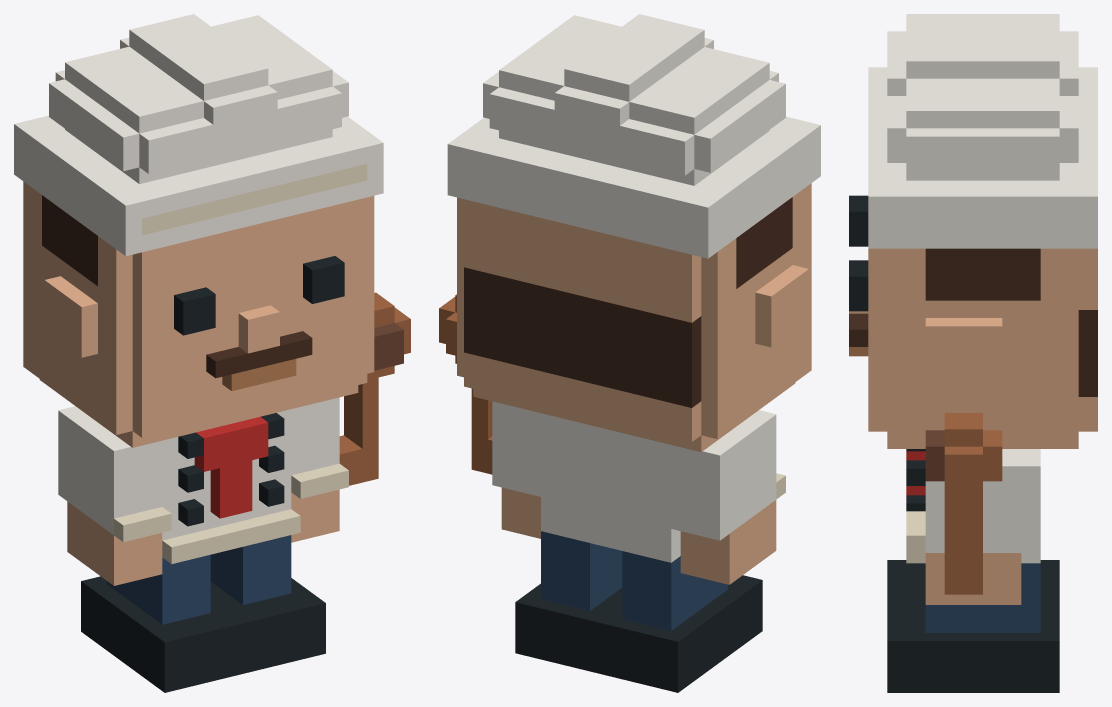
Rendered from chef.glb.
3 renders of one model, left to right at view 1: azimuth 30°, elevation 25°; view 2: azimuth 150°, elevation 25°; view 3: azimuth 270°, elevation 25°, orthographic. The views are drawn at different scales.
Visible parts, largest first — view 1: head, torso, leg_left, arm_left, arm_right, leg_right; view 2: head, leg_left, torso, arm_left, leg_right, arm_right; view 3: head, arm_right, leg_right, leg_left, torso.
Part boxes in pixels (box(x1,y1,x2,y2)): head: box(14, 14, 383, 447); torso: box(162, 409, 300, 563); leg_left: box(81, 554, 245, 692); arm_left: box(58, 406, 171, 585); arm_right: box(291, 292, 410, 542); leg_right: box(210, 535, 325, 673); head: box(447, 14, 820, 452); leg_left: box(596, 551, 762, 692); torso: box(541, 413, 680, 562); arm_left: box(671, 410, 785, 584); leg_right: box(515, 531, 622, 672); arm_right: box(439, 294, 540, 538); head: box(849, 14, 1097, 448); arm_right: box(906, 413, 1040, 604); leg_right: box(887, 563, 1059, 692); leg_left: box(887, 560, 1059, 600); torso: box(906, 449, 1040, 563).
Bounding box in the file's own units: 1.05 × 1.75 × 0.65.
1 material, 1 textured.
